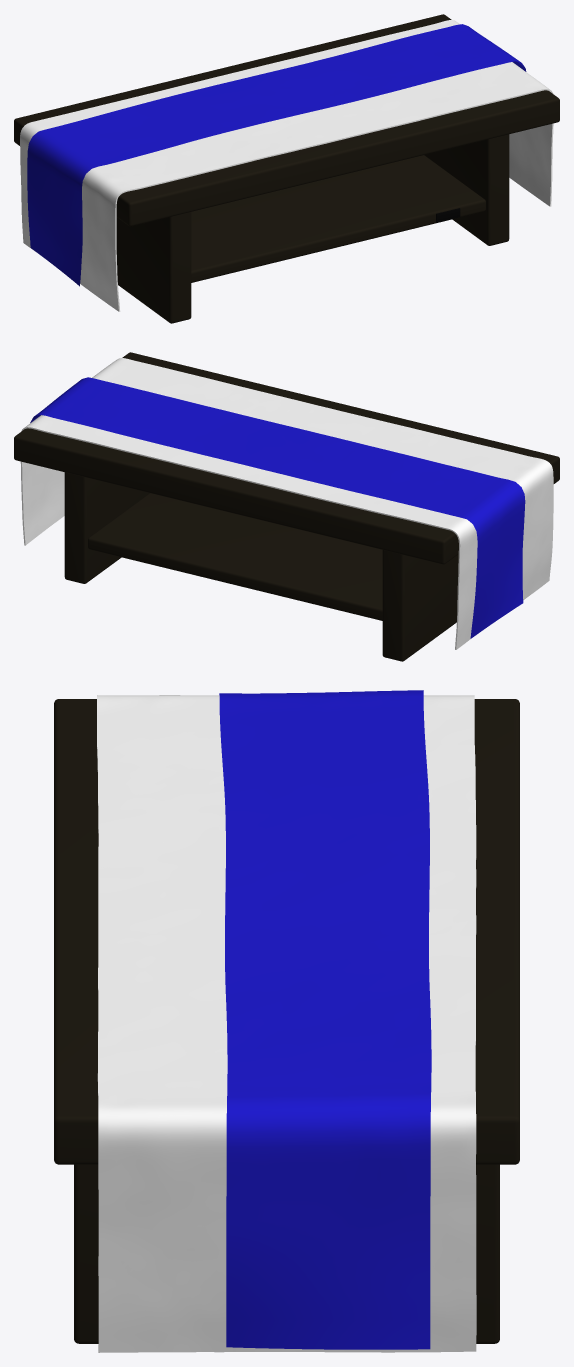
Rendered from table.fbx.
3 views of the same model, one above another, from view 1: azimuth 30°, elevation 25°; view 2: azimuth 150°, elevation 25°; view 3: azimuth 270°, elevation 25° (orthographic). The views are drawn at different scales.
Visible parts, largest first — view 1: Table001, cloth2, cloth1; view 2: Table001, cloth1, cloth2; view 3: cloth2, cloth1, Table001.
Part boxes in pixels (x1,y1,x2,y2): Table001: (14, 14, 559, 323); cloth2: (27, 24, 526, 286); cloth1: (20, 20, 553, 311); Table001: (14, 352, 559, 661); cloth1: (20, 358, 553, 649); cloth2: (30, 377, 525, 638); cloth2: (219, 690, 431, 1349); cloth1: (97, 695, 476, 1352); Table001: (54, 699, 519, 1343).
Bounding box in the file's own units: 183 × 55.55 × 82.04.
